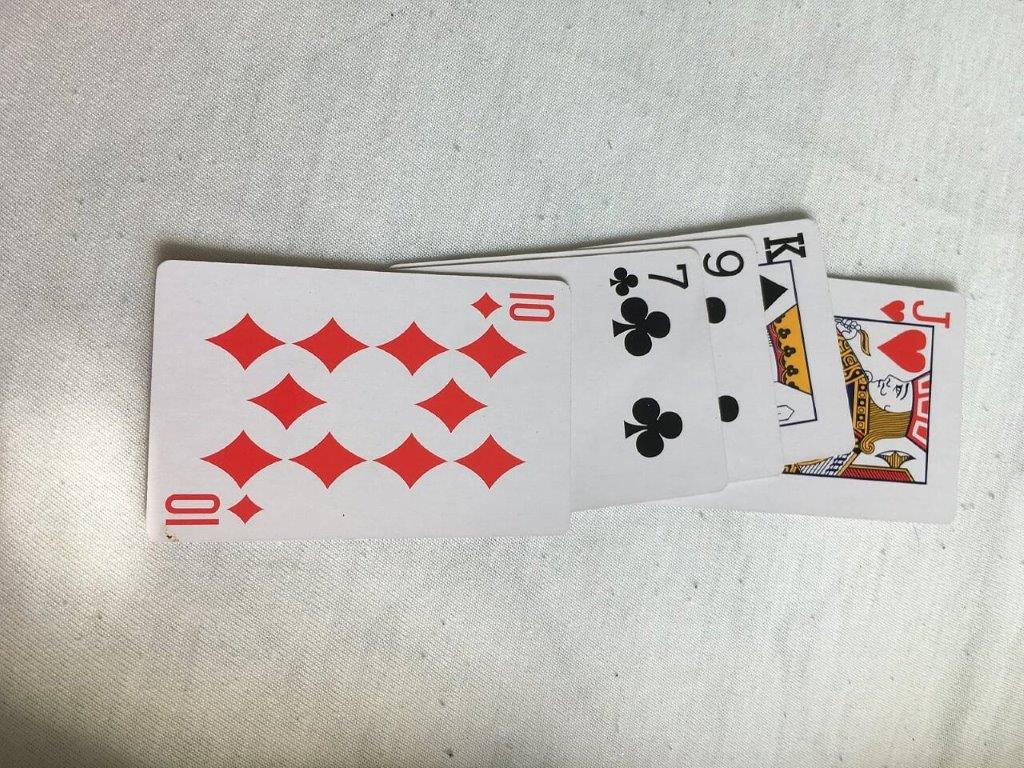10D: (144, 257, 575, 543)
7C: (574, 246, 730, 508)
9C: (700, 234, 786, 482)
JH: (857, 277, 970, 529)
KS: (751, 216, 859, 465)
